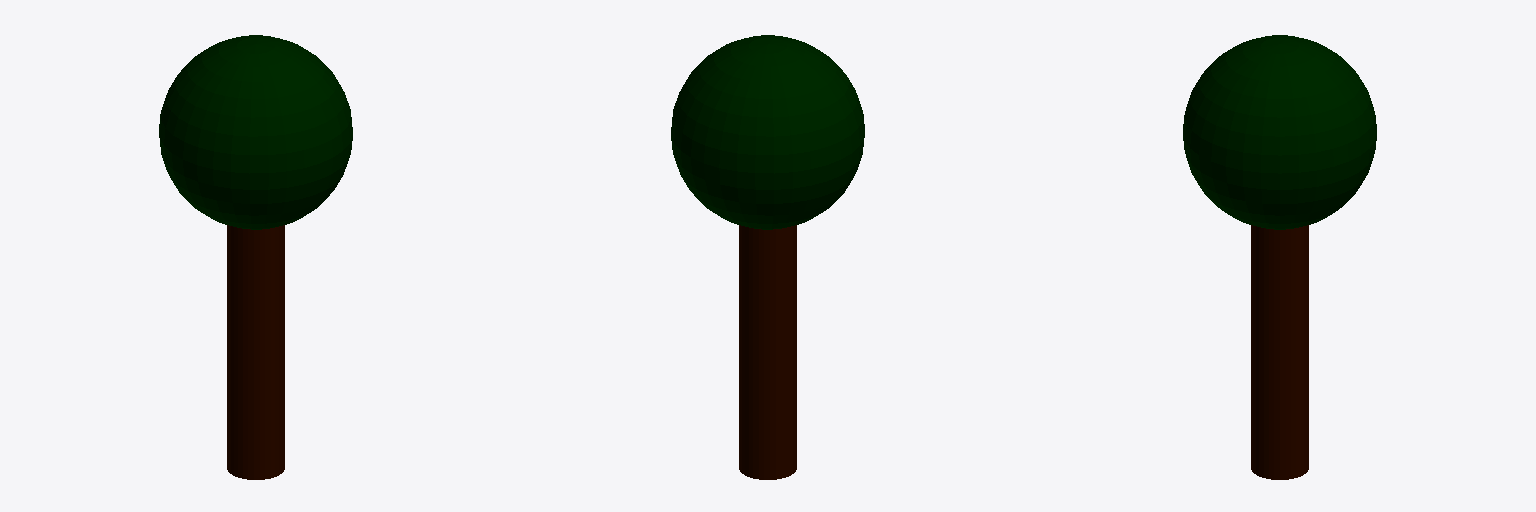
File: arbre.obj
The picture shows the model from 3 angles: view 1: azimuth 30°, elevation 25°; view 2: azimuth 150°, elevation 25°; view 3: azimuth 270°, elevation 25°; orthographic projection.
Visible parts, largest first — view 1: Sphere.002; view 2: Sphere.002; view 3: Sphere.002.
Boxes of the visible parts, box(x1,y1,x2,y2) form: Sphere.002: box(159, 35, 352, 479); Sphere.002: box(671, 35, 864, 479); Sphere.002: box(1183, 35, 1376, 479).
Bounding box in the file's own units: 2 × 4.8 × 2.